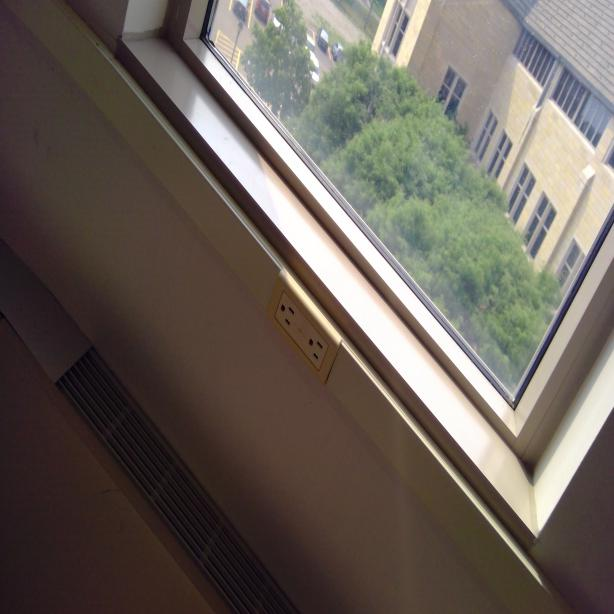typeb: (274, 292, 298, 330), (304, 330, 324, 370)
